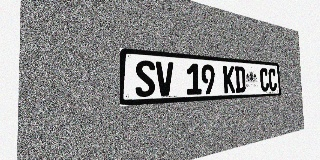1: (186, 63, 202, 95)
9: (201, 64, 215, 94)
C: (260, 68, 269, 92), (268, 68, 277, 91)
D: (234, 66, 246, 93)
K: (223, 65, 235, 93)
S: (135, 60, 155, 97)
V: (156, 61, 174, 96)
